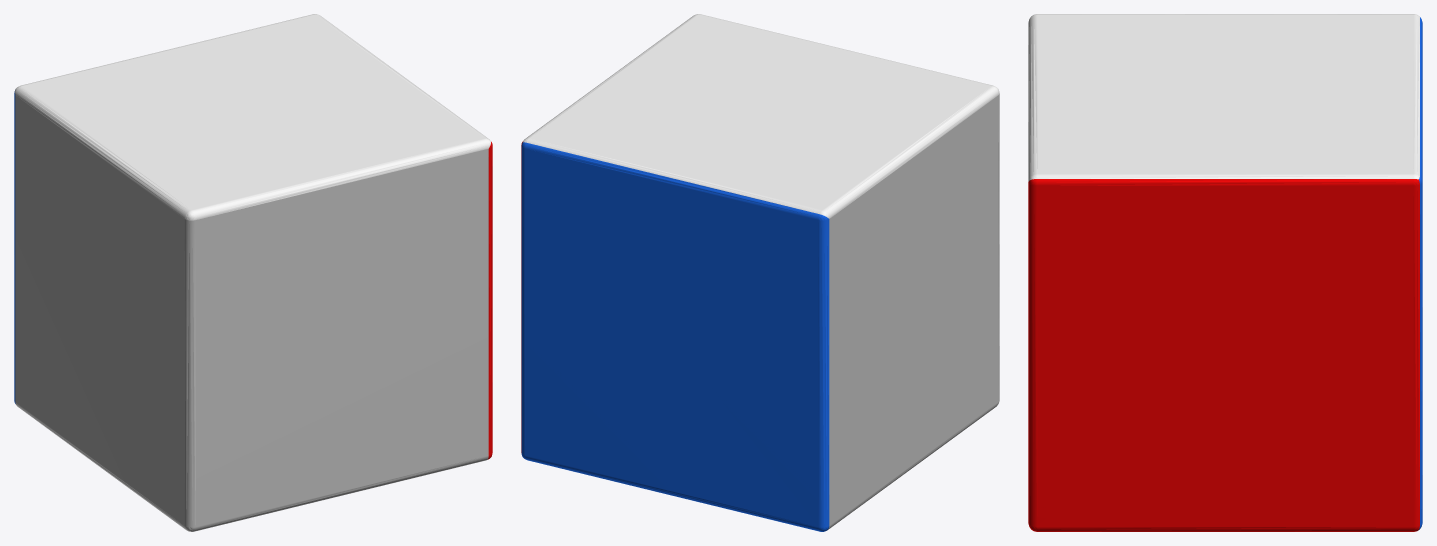
File: URB.obj
The picture shows the model from 3 angles, left to right: view 1: azimuth 30°, elevation 25°; view 2: azimuth 150°, elevation 25°; view 3: azimuth 270°, elevation 25°; orthographic projection. The views are drawn at different scales.
Visible parts, largest first — view 1: corner_URB; view 2: corner_URB; view 3: corner_URB.
Boxes of the visible parts, bbox=[...] form: corner_URB: bbox=[14, 14, 492, 531]; corner_URB: bbox=[521, 14, 999, 531]; corner_URB: bbox=[1028, 14, 1422, 531].
Bounding box in the file's own units: 0.2003 × 0.2003 × 0.2003.
Materials: 1 (1 with a texture image).
